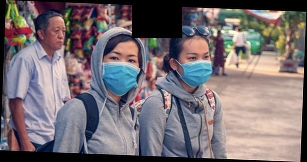with_mask: (102, 50, 141, 98), (177, 50, 213, 89)
without_mask: (45, 25, 65, 49)
